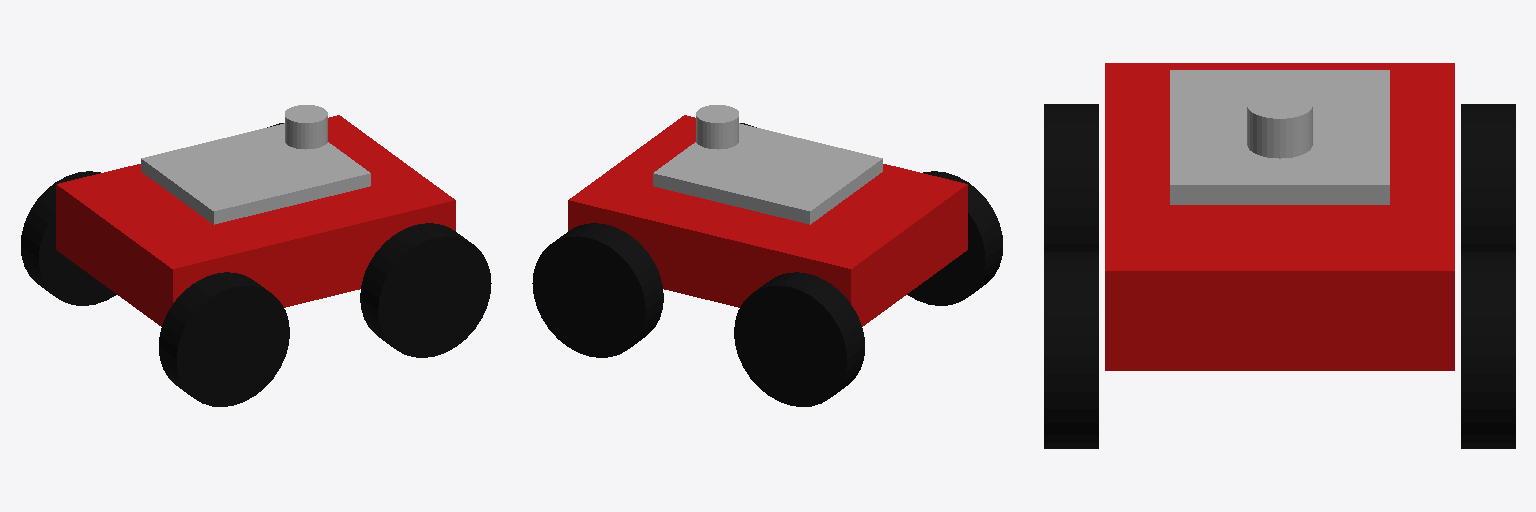
The robot description file, URDF, robot "pioneer3at":
<?xml version="1.0"?>
<robot name="pioneer3at">

  <material name="ChassisRed">
    <color rgba="0.8 0.1 0.1 1.0"/>
  </material>

  <material name="WheelBlack">
    <color rgba="0.1 0.1 0.1 1.0"/>
  </material>

  <material name="Grey">
    <color rgba="0.7 0.7 0.7 1.0"/>
  </material>

  <!-- base -->
  <link name="base_link"/>

  <!-- chassis -->
  <joint name="base_chassis_joint" type="fixed">
    <parent link="base_link"/>
    <child link="chassis"/>
    <origin xyz="0 0 0.12" rpy="0 0 0"/>
  </joint>

  <link name="chassis">
    <inertial>
      <origin xyz="0 0 0" rpy="0 0 0"/>
      <mass value="18.0"/>
      <inertia ixx="0.30" ixy="0.0" ixz="0.0"
               iyy="0.60" iyz="0.0"
               izz="0.70"/>
    </inertial>

    <visual>
      <origin xyz="0 0 0" rpy="0 0 0"/>
      <geometry>
        <box size="0.45 0.32 0.10"/>
      </geometry>
      <material name="ChassisRed"/>
    </visual>

    <collision>
      <origin xyz="0 0 0" rpy="0 0 0"/>
      <geometry>
        <box size="0.45 0.32 0.10"/>
      </geometry>
    </collision>
  </link>

  <!-- front left wheel -->
  <joint name="p3at_front_left_wheel_joint" type="continuous">
    <parent link="base_link"/>
    <child link="front_left_wheel"/>
    <origin xyz="0.16 0.19 0.06" rpy="0 0 0"/>
    <axis xyz="0 1 0"/>
  </joint>

  <link name="front_left_wheel">
    <inertial>
      <origin xyz="0 0 0" rpy="0 0 0"/>
      <mass value="1.0"/>
      <inertia ixx="0.005" ixy="0.0" ixz="0.0"
               iyy="0.005" iyz="0.0"
               izz="0.005"/>
    </inertial>

    <visual>
      <origin xyz="0 0 0" rpy="1.57079632679 0 0"/>
      <geometry>
        <cylinder radius="0.09" length="0.05"/>
      </geometry>
      <material name="WheelBlack"/>
    </visual>

    <collision>
      <origin xyz="0 0 0" rpy="1.57079632679 0 0"/>
      <geometry>
        <cylinder radius="0.09" length="0.05"/>
      </geometry>
    </collision>
  </link>

  <!-- front right wheel -->
  <joint name="p3at_front_right_wheel_joint" type="continuous">
    <parent link="base_link"/>
    <child link="front_right_wheel"/>
    <origin xyz="0.16 -0.19 0.06" rpy="0 0 0"/>
    <axis xyz="0 1 0"/>
  </joint>

  <link name="front_right_wheel">
    <inertial>
      <origin xyz="0 0 0" rpy="0 0 0"/>
      <mass value="1.0"/>
      <inertia ixx="0.005" ixy="0.0" ixz="0.0"
               iyy="0.005" iyz="0.0"
               izz="0.005"/>
    </inertial>

    <visual>
      <origin xyz="0 0 0" rpy="1.57079632679 0 0"/>
      <geometry>
        <cylinder radius="0.09" length="0.05"/>
      </geometry>
      <material name="WheelBlack"/>
    </visual>

    <collision>
      <origin xyz="0 0 0" rpy="1.57079632679 0 0"/>
      <geometry>
        <cylinder radius="0.09" length="0.05"/>
      </geometry>
    </collision>
  </link>

  <!-- back left wheel -->
  <joint name="p3at_back_left_wheel_joint" type="continuous">
    <parent link="base_link"/>
    <child link="back_left_wheel"/>
    <origin xyz="-0.16 0.19 0.06" rpy="0 0 0"/>
    <axis xyz="0 1 0"/>
  </joint>

  <link name="back_left_wheel">
    <inertial>
      <origin xyz="0 0 0" rpy="0 0 0"/>
      <mass value="1.0"/>
      <inertia ixx="0.005" ixy="0.0" ixz="0.0"
               iyy="0.005" iyz="0.0"
               izz="0.005"/>
    </inertial>

    <visual>
      <origin xyz="0 0 0" rpy="1.57079632679 0 0"/>
      <geometry>
        <cylinder radius="0.09" length="0.05"/>
      </geometry>
      <material name="WheelBlack"/>
    </visual>

    <collision>
      <origin xyz="0 0 0" rpy="1.57079632679 0 0"/>
      <geometry>
        <cylinder radius="0.09" length="0.05"/>
      </geometry>
    </collision>
  </link>

  <!-- back right wheel -->
  <joint name="p3at_back_right_wheel_joint" type="continuous">
    <parent link="base_link"/>
    <child link="back_right_wheel"/>
    <origin xyz="-0.16 -0.19 0.06" rpy="0 0 0"/>
    <axis xyz="0 1 0"/>
  </joint>

  <link name="back_right_wheel">
    <inertial>
      <origin xyz="0 0 0" rpy="0 0 0"/>
      <mass value="1.0"/>
      <inertia ixx="0.005" ixy="0.0" ixz="0.0"
               iyy="0.005" iyz="0.0"
               izz="0.005"/>
    </inertial>

    <visual>
      <origin xyz="0 0 0" rpy="1.57079632679 0 0"/>
      <geometry>
        <cylinder radius="0.09" length="0.05"/>
      </geometry>
      <material name="WheelBlack"/>
    </visual>

    <collision>
      <origin xyz="0 0 0" rpy="1.57079632679 0 0"/>
      <geometry>
        <cylinder radius="0.09" length="0.05"/>
      </geometry>
    </collision>
  </link>

  <!-- simple top plate -->
  <joint name="chassis_top_joint" type="fixed">
    <parent link="chassis"/>
    <child link="top_plate"/>
    <origin xyz="0 0 0.08" rpy="0 0 0"/>
  </joint>

  <link name="top_plate">
    <inertial>
      <origin xyz="0 0 0" rpy="0 0 0"/>
      <mass value="1.0"/>
      <inertia ixx="0.01" ixy="0.0" ixz="0.0"
               iyy="0.01" iyz="0.0"
               izz="0.01"/>
    </inertial>

    <visual>
      <origin xyz="0 0 0" rpy="0 0 0"/>
      <geometry>
        <box size="0.25 0.20 0.02"/>
      </geometry>
      <material name="Grey"/>
    </visual>

    <collision>
      <origin xyz="0 0 0" rpy="0 0 0"/>
      <geometry>
        <box size="0.25 0.20 0.02"/>
      </geometry>
    </collision>
  </link>

  <!-- lidar -->
  <joint name="top_lidar_joint" type="fixed">
    <parent link="top_plate"/>
    <child link="lidar_link"/>
    <origin xyz="0.08 0 0.05" rpy="0 0 0"/>
  </joint>

  <link name="lidar_link">
    <inertial>
      <origin xyz="0 0 0" rpy="0 0 0"/>
      <mass value="0.2"/>
      <inertia ixx="0.0005" ixy="0.0" ixz="0.0"
               iyy="0.0005" iyz="0.0"
               izz="0.0005"/>
    </inertial>

    <visual>
      <origin xyz="0 0 0" rpy="0 0 0"/>
      <geometry>
        <cylinder radius="0.03" length="0.04"/>
      </geometry>
      <material name="Grey"/>
    </visual>

    <collision>
      <origin xyz="0 0 0" rpy="0 0 0"/>
      <geometry>
        <cylinder radius="0.03" length="0.04"/>
      </geometry>
    </collision>
  </link>

  <gazebo reference="lidar_link">
    <sensor name="lidar_sensor" type="gpu_lidar">
      <always_on>true</always_on>
      <update_rate>10</update_rate>
      <visualize>true</visualize>
      <topic>/scan</topic>
      <lidar>
        <scan>
          <horizontal>
            <samples>360</samples>
            <resolution>1</resolution>
            <min_angle>-3.14159</min_angle>
            <max_angle>3.14159</max_angle>
          </horizontal>
        </scan>
        <range>
          <min>0.12</min>
          <max>8.0</max>
          <resolution>0.01</resolution>
        </range>
      </lidar>
    </sensor>
  </gazebo>

  <!-- keep teleop / diff drive active -->
  <gazebo>
    <plugin filename="gz-sim-diff-drive-system"
            name="gz::sim::systems::DiffDrive">
      <left_joint>p3at_front_left_wheel_joint</left_joint>
      <left_joint>p3at_back_left_wheel_joint</left_joint>
      <right_joint>p3at_back_right_wheel_joint</right_joint>
      <right_joint>p3at_front_right_wheel_joint</right_joint>
      <wheel_separation>0.38</wheel_separation>
      <wheel_radius>0.09</wheel_radius>
      <topic>cmd_vel</topic>
      <odom_topic>odom</odom_topic>
      <frame_id>odom</frame_id>
      <child_frame_id>base_link</child_frame_id>
    </plugin>
  </gazebo>

</robot>

--- What the picture shows (computed from the rendered views, not written in the file) ---
Views: 3 orthographic renders of the robot side by side, from view 1: azimuth 30°, elevation 25°; view 2: azimuth 150°, elevation 25°; view 3: azimuth 270°, elevation 25°.
Robot: pioneer3at — 8 links, 7 joints (4 continuous, 3 fixed); root link base_link; default pose: all joints at 0.
Visible links, largest first — view 1: chassis, front_right_wheel, back_right_wheel, top_plate, back_left_wheel, lidar_link; view 2: chassis, front_left_wheel, back_left_wheel, top_plate, back_right_wheel, lidar_link; view 3: chassis, top_plate, front_left_wheel, front_right_wheel, back_left_wheel, back_right_wheel, lidar_link.
Boxes of the visible links, x1,y1,x2,y2 form: chassis: [56, 115, 455, 326]; front_right_wheel: [360, 223, 491, 357]; back_right_wheel: [159, 272, 289, 406]; top_plate: [141, 123, 370, 224]; back_left_wheel: [21, 171, 116, 305]; lidar_link: [285, 105, 327, 149]; chassis: [568, 115, 967, 326]; front_left_wheel: [532, 223, 663, 357]; back_left_wheel: [734, 272, 864, 406]; top_plate: [653, 123, 882, 224]; back_right_wheel: [907, 171, 1002, 305]; lidar_link: [696, 105, 738, 149]; chassis: [1105, 63, 1454, 370]; top_plate: [1170, 70, 1389, 204]; front_left_wheel: [1461, 252, 1515, 448]; front_right_wheel: [1044, 252, 1098, 448]; back_left_wheel: [1461, 104, 1515, 251]; back_right_wheel: [1044, 104, 1098, 251]; lidar_link: [1247, 91, 1312, 158].
Size in the robot's own frame: 0.5 by 0.43 by 0.3 metres.
Geometry: primitives only (box / cylinder / sphere), no mesh files.
